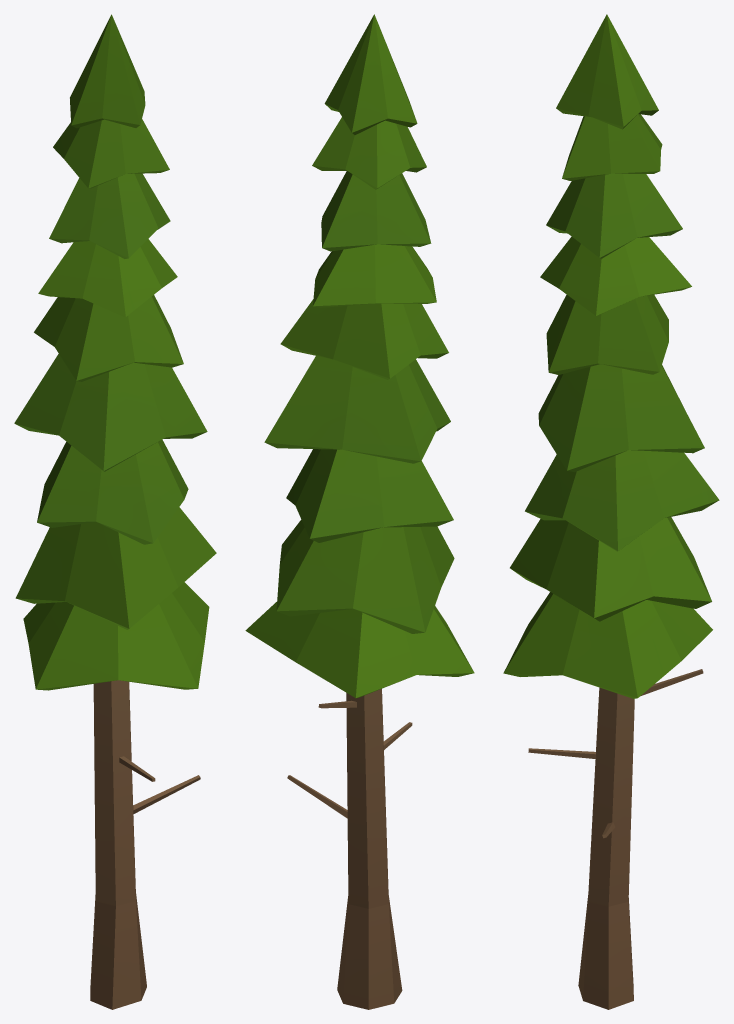
File: SM_Nature_Tree_04.fbx
3 renders of one model, left to right at view 1: azimuth 30°, elevation 25°; view 2: azimuth 150°, elevation 25°; view 3: azimuth 270°, elevation 25°, orthographic.
Visible parts, largest first — view 1: SM_Nature_Tree_04_LOD0; view 2: SM_Nature_Tree_04_LOD0; view 3: SM_Nature_Tree_04_LOD0.
Boxes of the visible parts, x1,y1,x2,y2 form: SM_Nature_Tree_04_LOD0: (14,14,216,1009); SM_Nature_Tree_04_LOD0: (245,14,474,1009); SM_Nature_Tree_04_LOD0: (503,14,719,1009).
Size of the model in its own units: 1.46 by 6.8 by 1.36.
